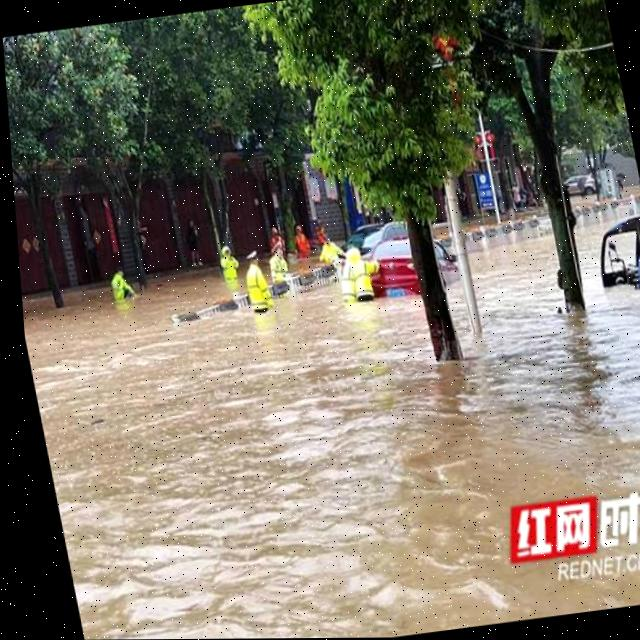civilian: (180, 215, 208, 270)
rescuer: (238, 248, 284, 323), (345, 241, 388, 306), (97, 257, 139, 310), (333, 250, 365, 316), (216, 239, 248, 285), (263, 239, 295, 283), (287, 219, 314, 264), (318, 234, 345, 275), (267, 221, 291, 262), (309, 215, 331, 250)
